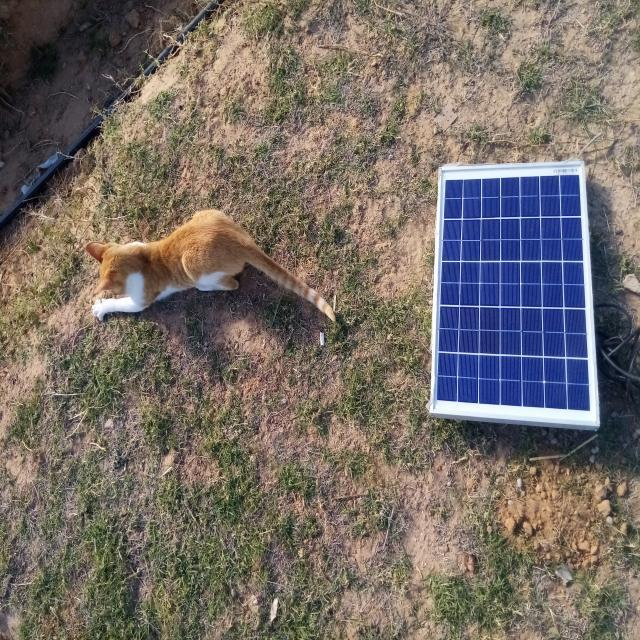no faulty: (430, 160, 601, 427)
